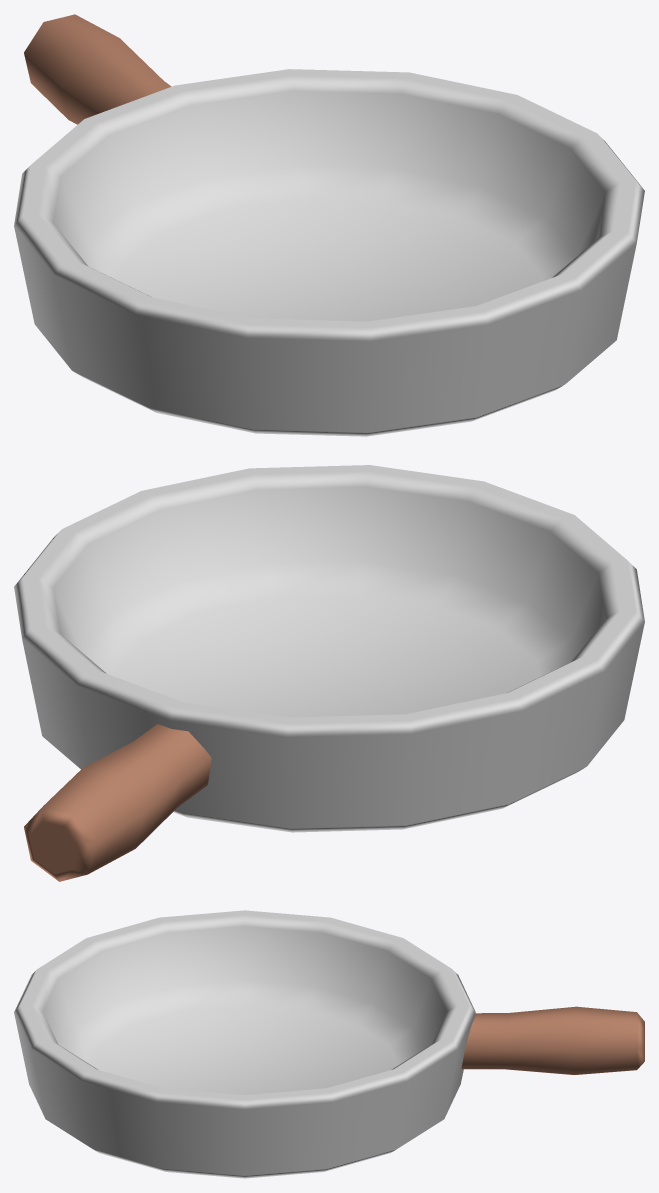
File: FryingPan.fbx
The picture shows the model from 3 angles, top to bottom: view 1: azimuth 30°, elevation 25°; view 2: azimuth 150°, elevation 25°; view 3: azimuth 270°, elevation 25°; orthographic projection. The views are drawn at different scales.
Visible parts, largest first — view 1: FryingPan; view 2: FryingPan; view 3: FryingPan.
Part boxes in pixels (x1,y1,x2,y2): FryingPan: [14, 14, 644, 436]; FryingPan: [14, 465, 644, 881]; FryingPan: [14, 910, 644, 1178].
Bounding box in the file's own units: 28.85 × 5.95 × 39.41.
